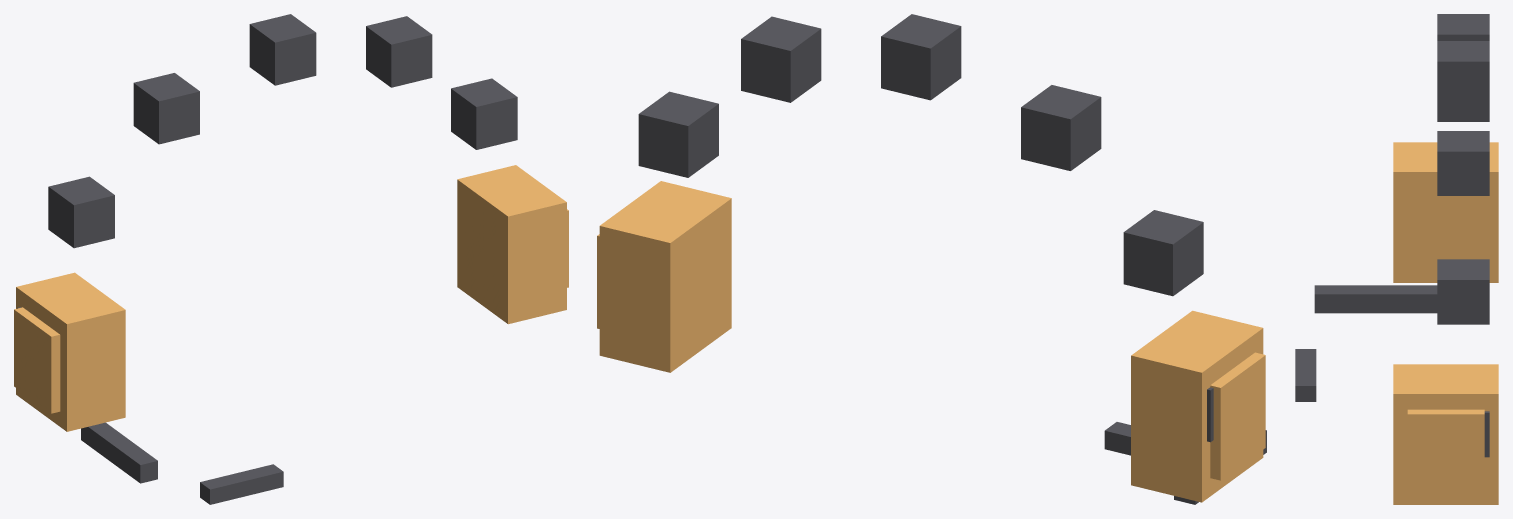
Rendered from headset.glb.
3 renders of one model, left to right at view 1: azimuth 30°, elevation 25°; view 2: azimuth 150°, elevation 25°; view 3: azimuth 270°, elevation 25°, orthographic. The views are drawn at different scales.
Visible parts, largest first — view 1: cups, band; view 2: cups, band; view 3: cups, band.
Boxes of the visible parts, x1,y1,x2,y2 form: cups: (14,165,568,431); band: (17,14,517,504); cups: (597,181,1265,502); band: (638,14,1266,504); cups: (1393,142,1498,504); band: (1295,14,1489,457).
Bounding box in the file's own units: 0.352 × 0.2465 × 0.116.
